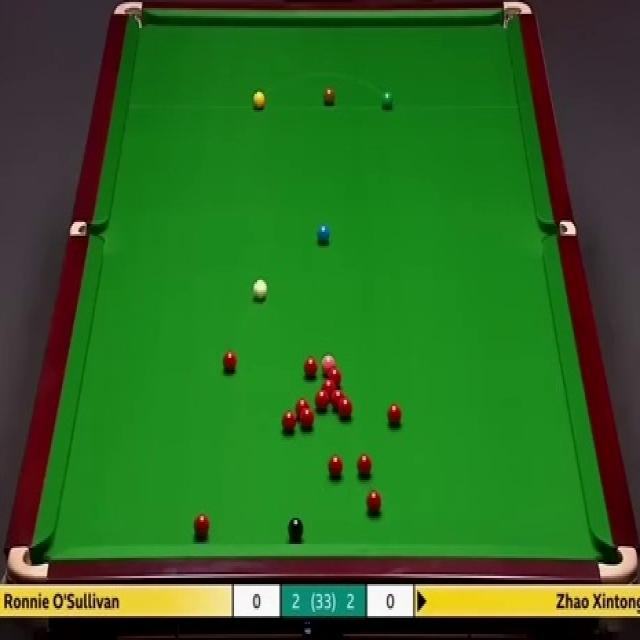black-ball: (288, 514, 304, 542)
blue-ball: (316, 222, 330, 246)
brown-ball: (322, 88, 334, 106)
green-ball: (382, 90, 393, 110)
pink-ball: (321, 354, 337, 368)
red-ball: (365, 490, 382, 516), (192, 514, 210, 538), (303, 355, 319, 381), (300, 407, 316, 429), (356, 454, 372, 476), (328, 455, 344, 477), (339, 396, 353, 420), (388, 404, 403, 426), (222, 349, 236, 372), (282, 411, 296, 432), (314, 391, 329, 408), (331, 390, 346, 407), (295, 396, 309, 414), (320, 379, 338, 392), (326, 369, 344, 380)
white-ball: (252, 277, 268, 303)
yellow-ball: (252, 89, 267, 110)
